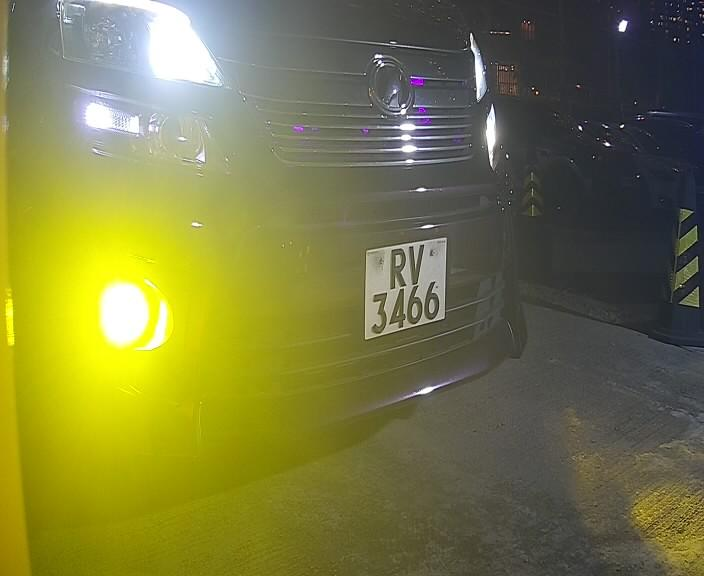Car: (29, 11, 601, 515)
License Plate: (359, 227, 456, 353)
